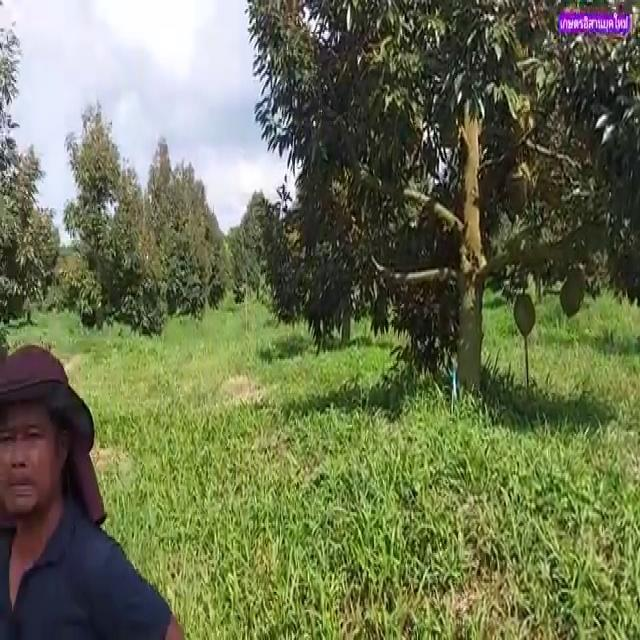durian: (509, 287, 539, 341), (558, 265, 588, 319)
